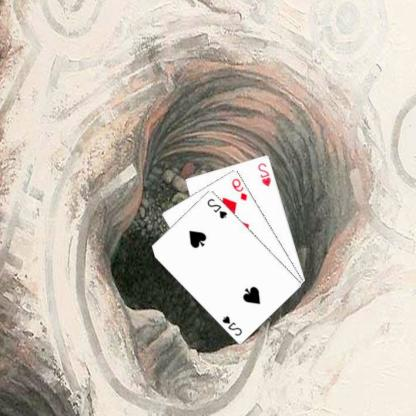2H: (257, 160, 274, 188)
2S: (221, 313, 245, 337), (206, 196, 230, 219)
9D: (231, 176, 250, 202)
